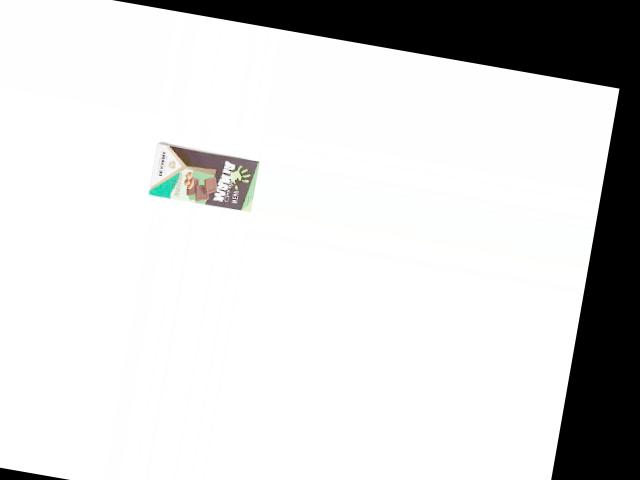chocolate: (145, 139, 262, 215)
